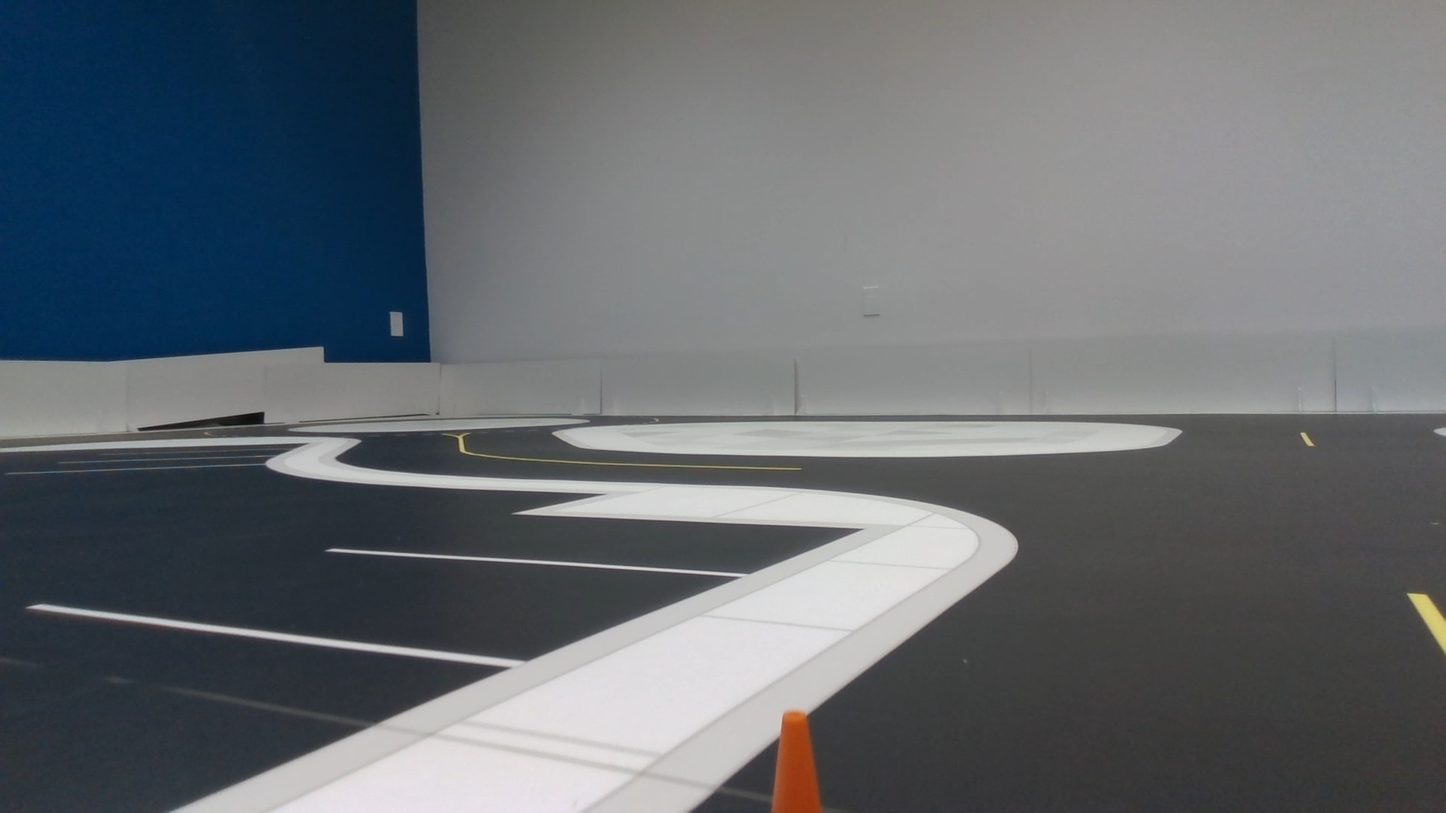Traffic Cone: (772, 711, 821, 812)
